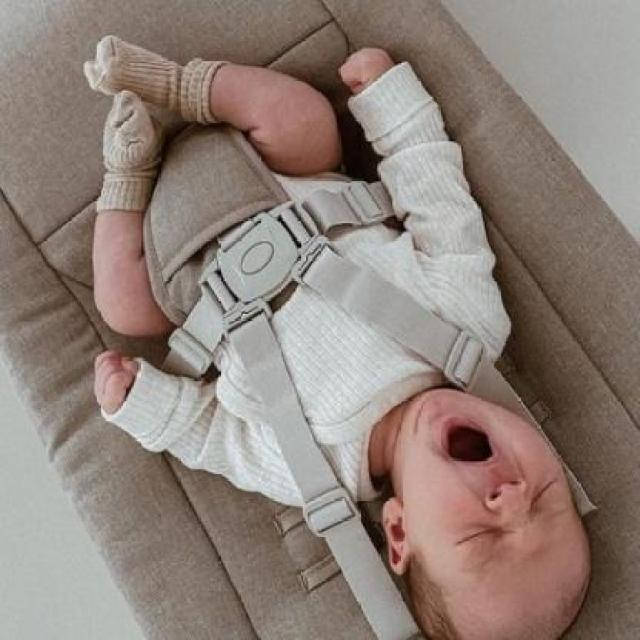baby: (81, 35, 590, 637)
